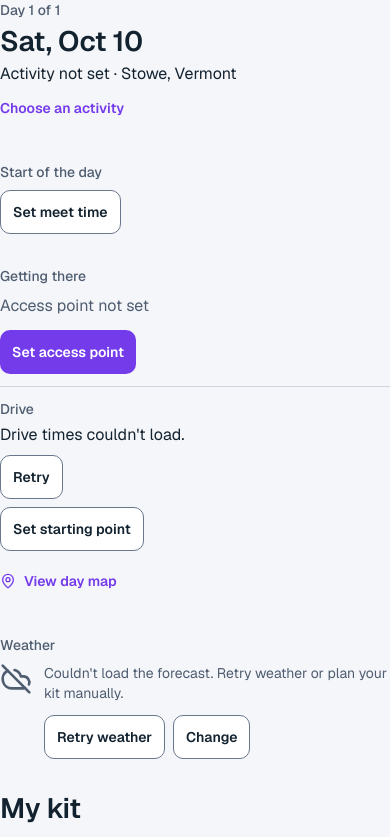
Test case: Trip day page › changing the day's location › offers one choice when the stop serves only this day
Click the button "Change": (212, 737) top-left (173, 715), bottom-right (250, 759)
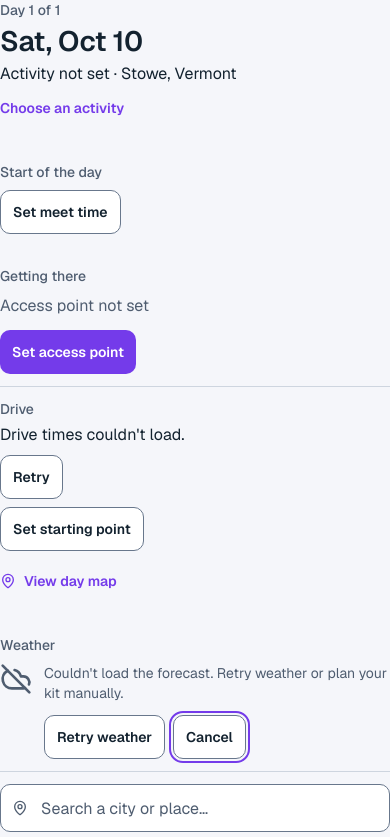
In the dropdown: (195, 808) top-left (0, 784), bottom-right (389, 832), type "Jay"
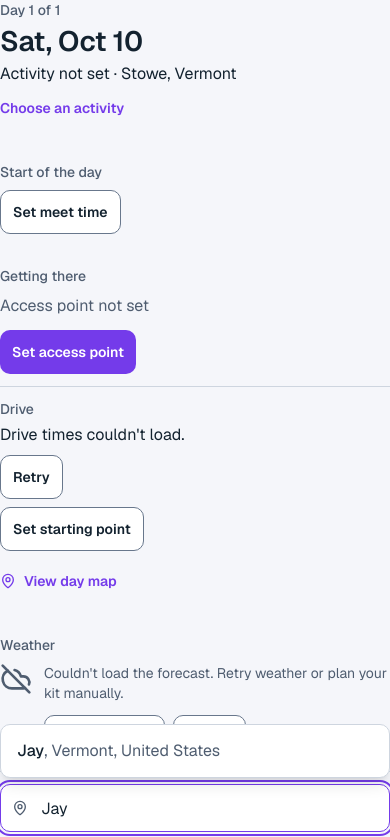
Click the option "Jay, Vermont, United States": (118, 750) top-left (17, 740), bottom-right (220, 761)
(page scrolled)
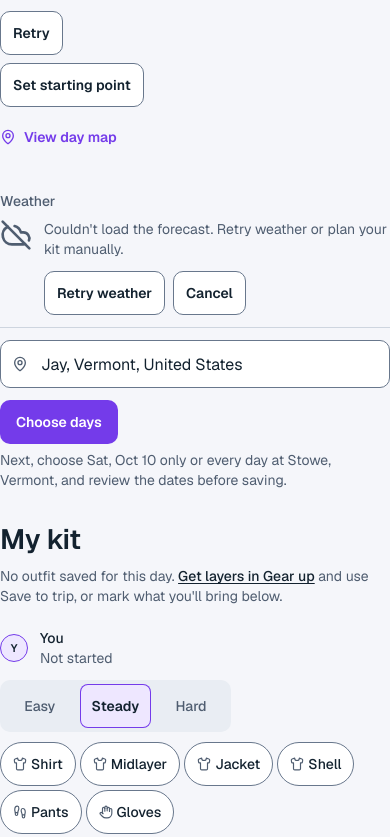
Click the button "Choose days": (59, 422) top-left (0, 400), bottom-right (118, 444)
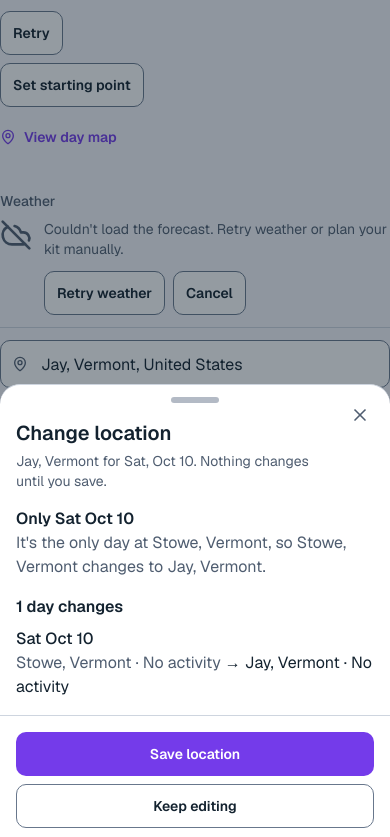
expect the text "Only Sat Oct 10" is shown: met, box top-left (16, 508), bottom-right (134, 529)
expect the button "Save location" is enabled: met, box top-left (16, 732), bottom-right (374, 776)
